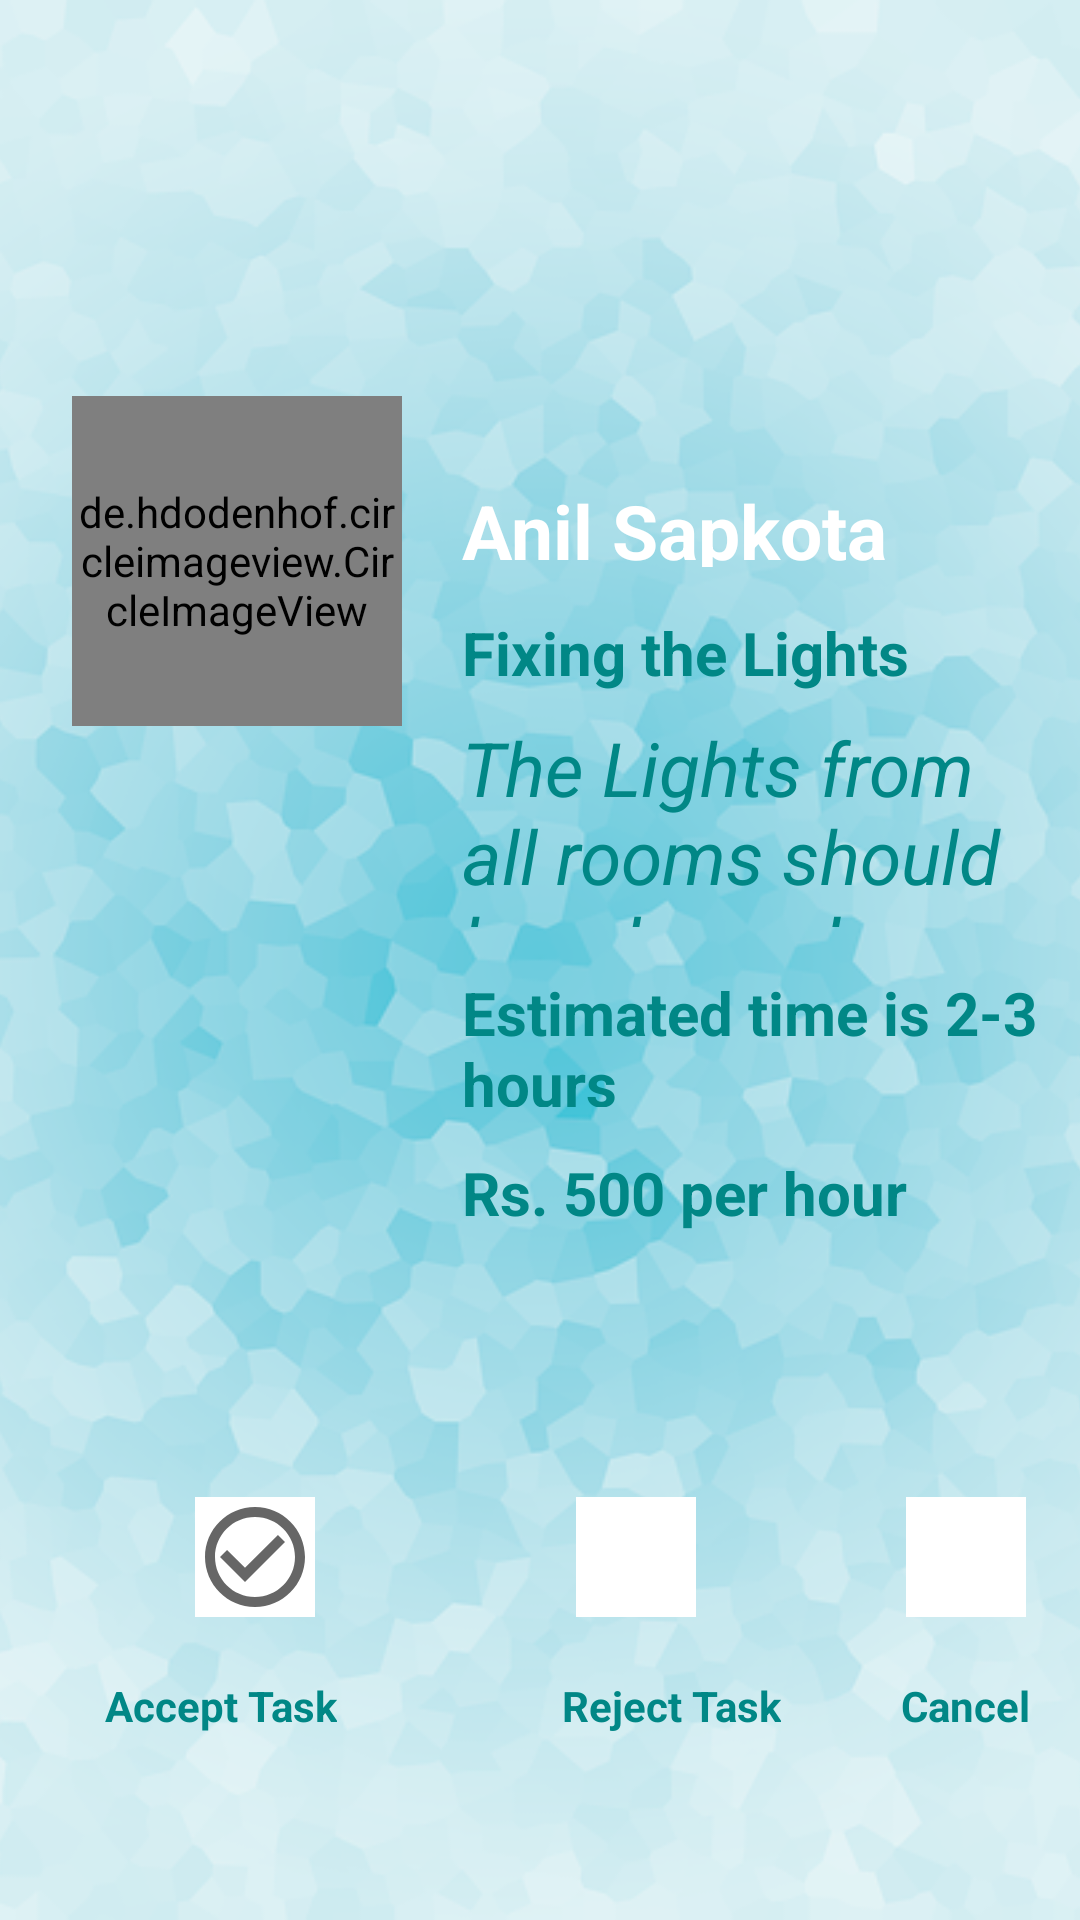

Named icons in this screenshot (1080 x 1920) and their bounding boxes, (x1, y1, x2, y2):
check: (195, 1497, 315, 1617)
